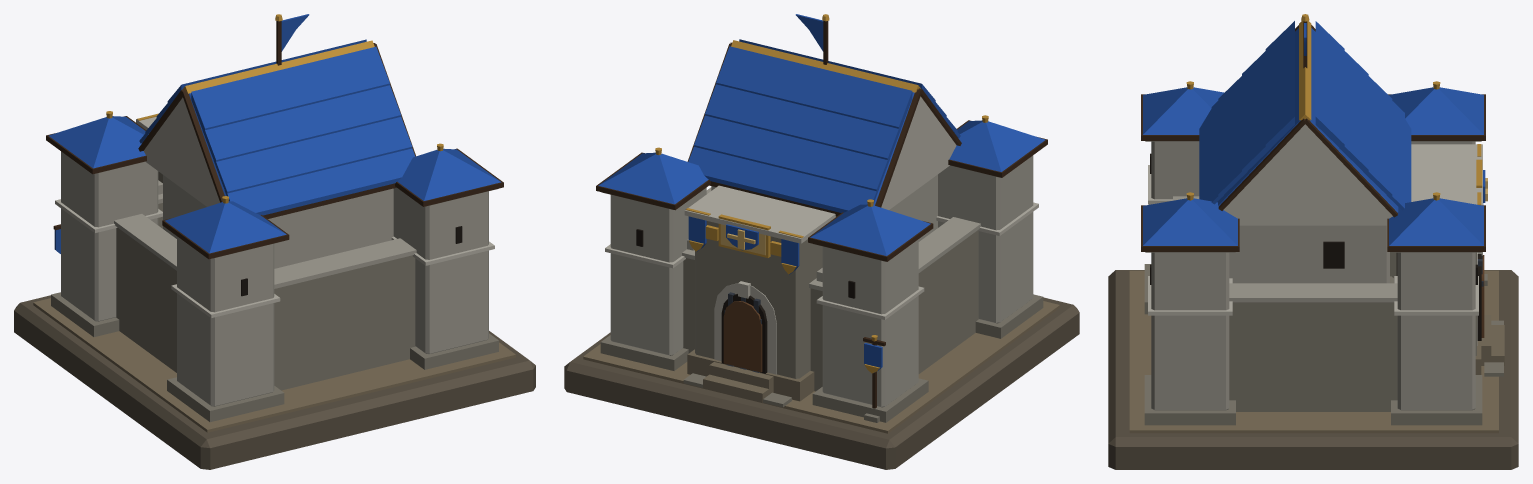
File: 城镇大厅_3星.glb
The picture shows the model from 3 angles, left to right: view 1: azimuth 30°, elevation 25°; view 2: azimuth 150°, elevation 25°; view 3: azimuth 270°, elevation 25°; orthographic projection. The views are drawn at different scales.
Visible parts, largest first — view 1: 城镇大厅_3星; view 2: 城镇大厅_3星; view 3: 城镇大厅_3星.
Part boxes in pixels (bbox=[...]): 城镇大厅_3星: bbox=[14, 14, 535, 469]; 城镇大厅_3星: bbox=[564, 14, 1079, 469]; 城镇大厅_3星: bbox=[1108, 14, 1518, 469].
Bounding box in the file's own units: 1 × 0.989 × 1.
